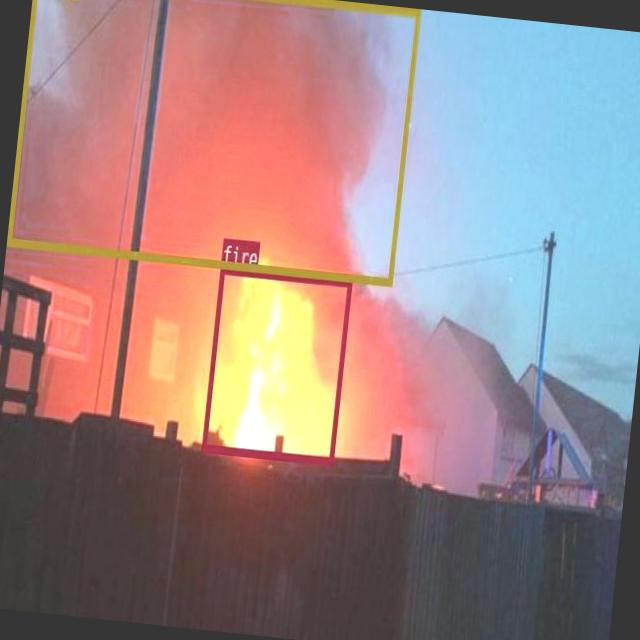fire: (200, 264, 351, 464)
smoke: (6, 0, 419, 285)
